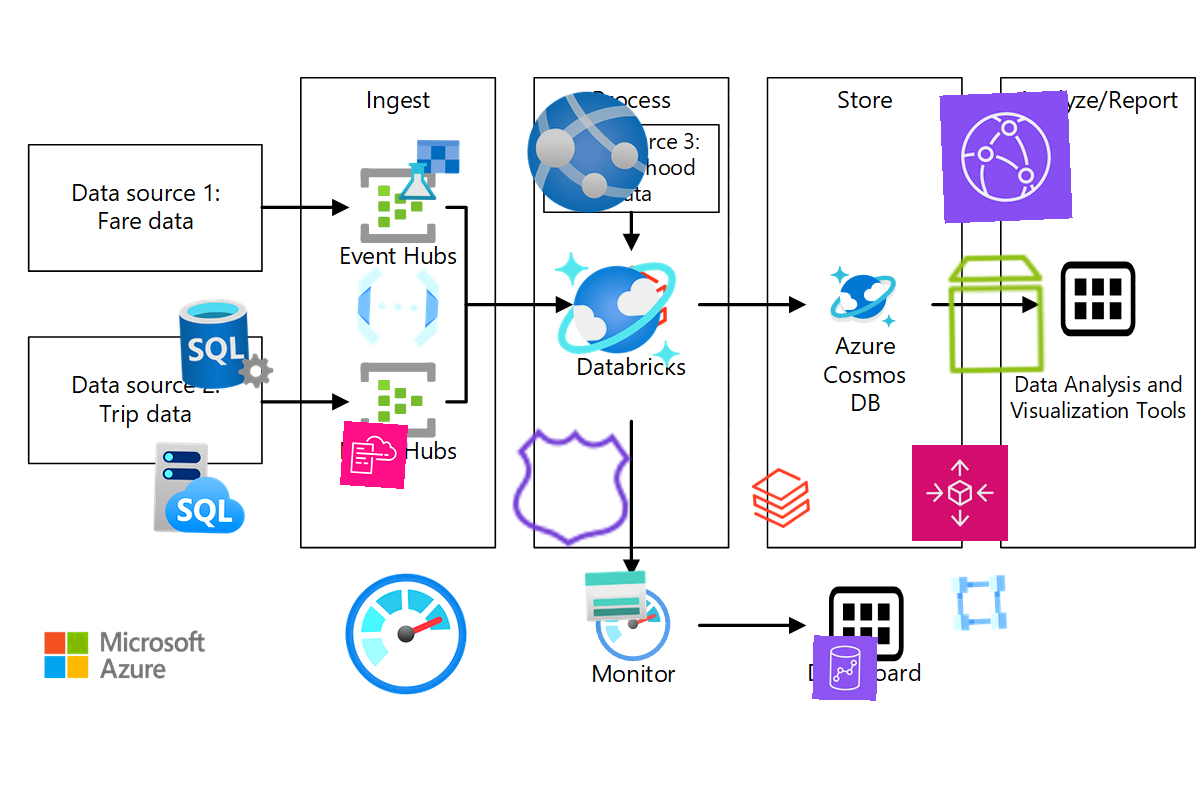aws_amazon_cloudfront: (939, 90, 1073, 224)
aws_amazon_redshift: (812, 635, 878, 701)
aws_auto_scaling: (911, 444, 1009, 542)
aws_cloudformation: (339, 420, 409, 490)
aws_elastic_block_store_volume: (931, 248, 1063, 380)
aws_route_53_hosted_zone: (504, 419, 642, 557)
azure_app_services: (520, 84, 656, 220)
azure_cosmos_db: (549, 242, 685, 378)
azure_databricks: (746, 463, 816, 533)
azure_machine_learning_studio_workspaces: (396, 137, 462, 203)
azure_monitor: (339, 567, 473, 701)
azure_sql_managed_instance: (150, 438, 250, 538)
azure_sql_server: (175, 293, 277, 395)
azure_storage_accounts: (582, 562, 650, 630)
gcp_cloud_functions: (348, 257, 448, 357)
gcp_virtual_private_cloud: (945, 569, 1013, 637)
